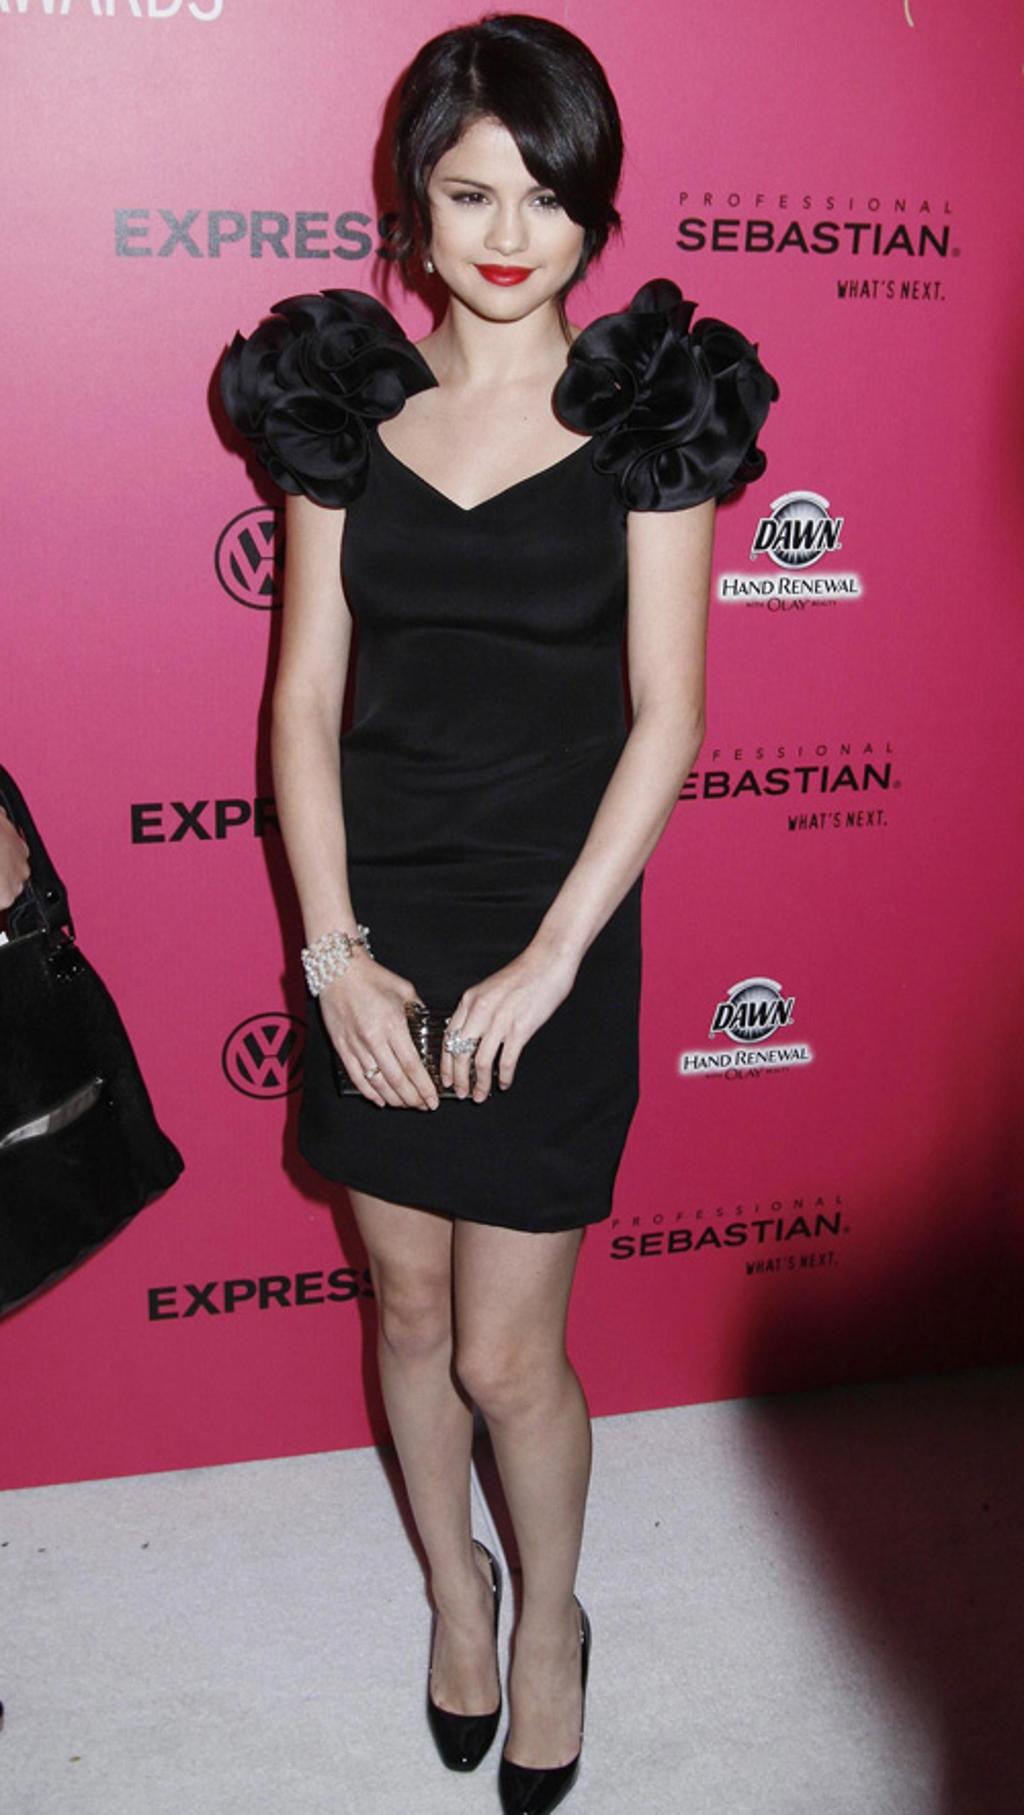face: (422, 89, 589, 323)
